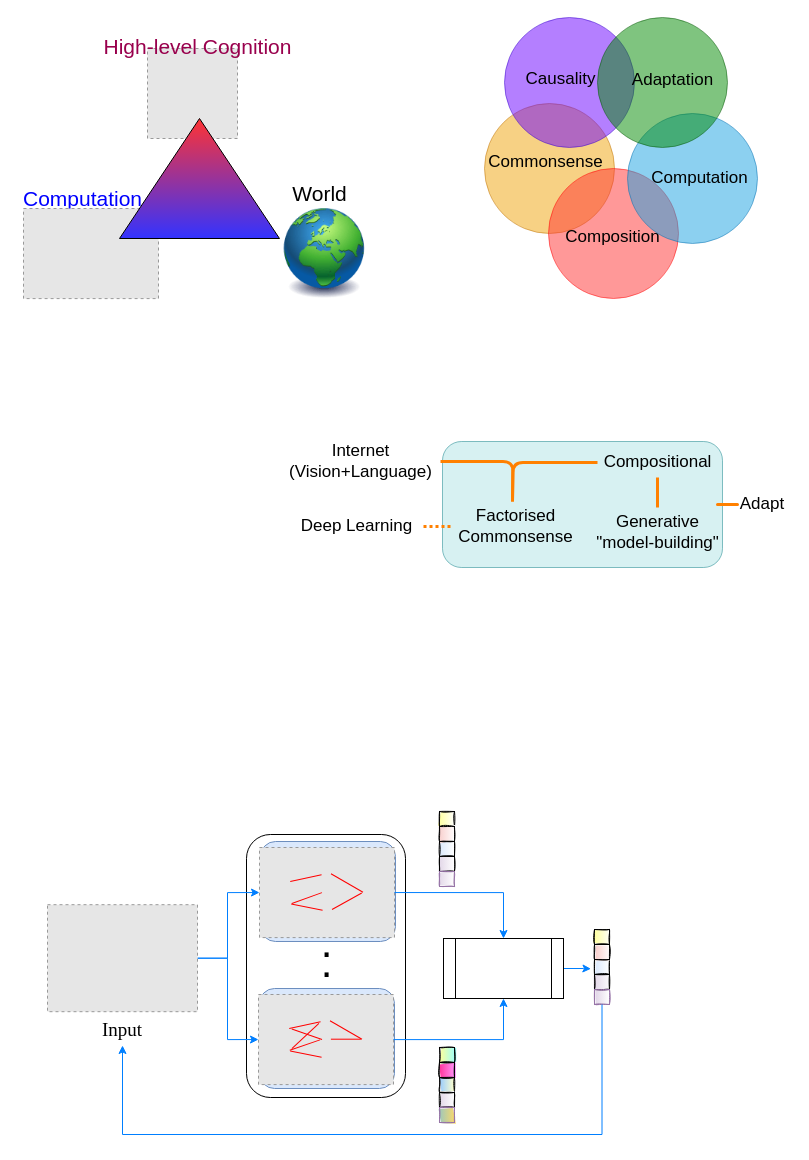
The diagram is 809 pixels wide and 1160 high, and some of its shapes have lost their labels. Grey dashed boxes stand in for pictures. Here are the shapes that lost their labels. From the top down, the centre of each, then its label:
[199,178]: System 2
[503,968]: Compose
